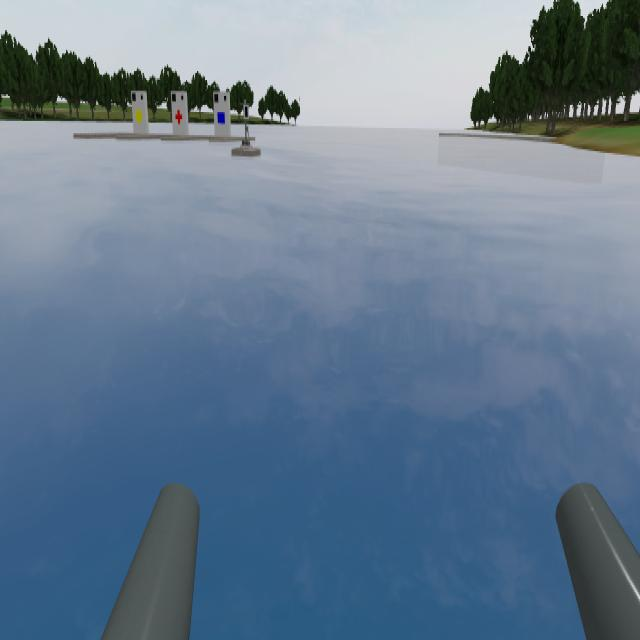black_pole: (237, 96, 256, 120)
